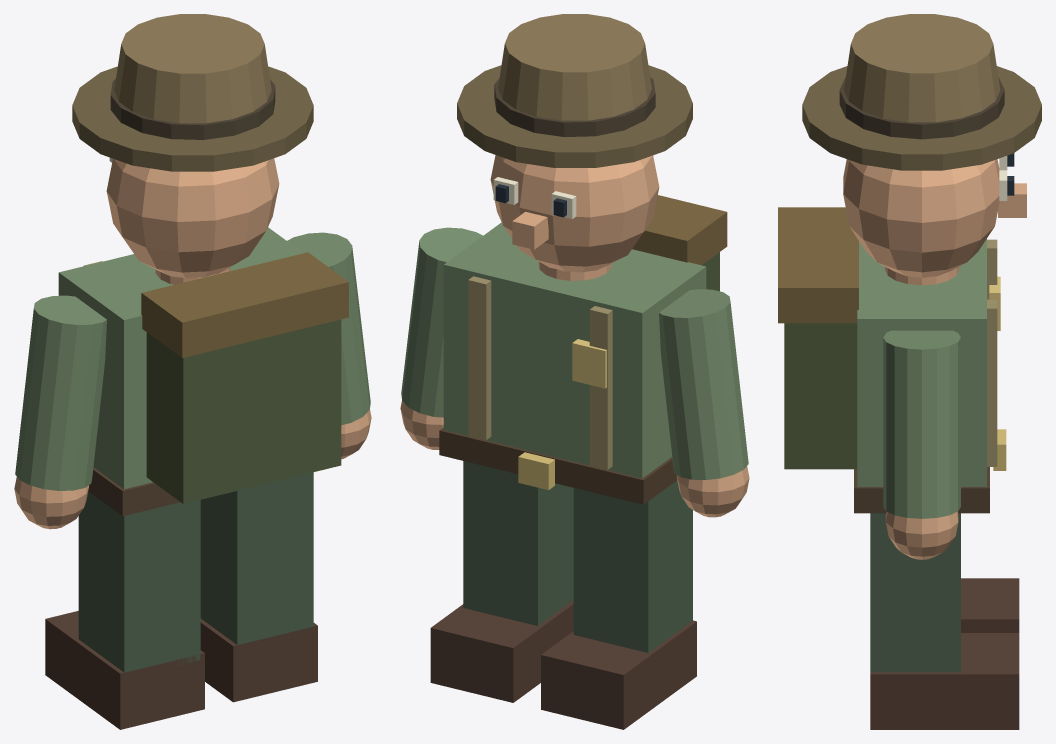
File: forest-ranger.glb
3 views of the same model, side by side, from view 1: azimuth 30°, elevation 25°; view 2: azimuth 150°, elevation 25°; view 3: azimuth 270°, elevation 25° (orthographic). The views are drawn at different scales.
Visible parts, largest first — view 1: Trouser leg (×2), Backpack, Sleeve (×2), Boot (×2), Head, Hat crown, Backpack flap, Shirt, Hat brim, Hand (×2), Hat band, Belt; view 2: Shirt, Trouser leg (×2), Sleeve (×2), Boot (×2), Hat crown, Head, Hat brim, Backpack shoulder strap (×2), Belt, Backpack flap, Hand (×2), Hat band (+4 smaller); view 3: Shirt, Head, Sleeve, Hat crown, Boot (×2), Trouser leg, Hat brim, Backpack, Backpack flap, Hat band, Hand, Backpack shoulder strap (×2) (+4 smaller).
Part boxes in pixels (box(x1,y1,x2,y2)): Trouser leg (×2): box(78, 472, 313, 672); Backpack: box(146, 319, 341, 503); Sleeve (×2): box(15, 232, 370, 490); Boot (×2): box(45, 611, 317, 729); Head: box(106, 158, 279, 278); Hat crown: box(114, 14, 271, 123); Backpack flap: box(141, 252, 348, 357); Shirt: box(58, 227, 303, 489); Hat brim: box(72, 66, 313, 171); Hand (×2): box(14, 410, 371, 529); Hat band: box(110, 79, 275, 139); Belt: box(88, 467, 180, 516); Shirt: box(443, 222, 706, 478); Trouser leg (×2): box(463, 461, 692, 652); Sleeve (×2): box(401, 227, 748, 479); Boot (×2): box(430, 600, 696, 729); Hat crown: box(498, 14, 651, 120); Head: box(490, 155, 659, 272); Hat brim: box(457, 65, 692, 167); Backpack shoulder strap (×2): box(468, 276, 612, 469); Belt: box(439, 427, 677, 504); Backpack flap: box(632, 195, 727, 265); Hand (×2): box(400, 401, 749, 517); Hat band: box(494, 77, 655, 136); Shirt: box(857, 239, 986, 486); Head: box(843, 159, 999, 277); Sleeve: box(883, 330, 960, 518); Hat crown: box(844, 14, 1000, 122); Boot (×2): box(870, 578, 1019, 729); Trouser leg: box(870, 513, 960, 672); Hat brim: box(802, 66, 1041, 170); Backpack: box(784, 323, 857, 469); Backpack flap: box(778, 207, 858, 323); Hat band: box(839, 77, 1004, 139); Hand: box(885, 511, 958, 559); Backpack shoulder strap (×2): box(987, 239, 997, 466).
Bounding box in the file's own units: 1.23 × 2.17 × 0.815.
